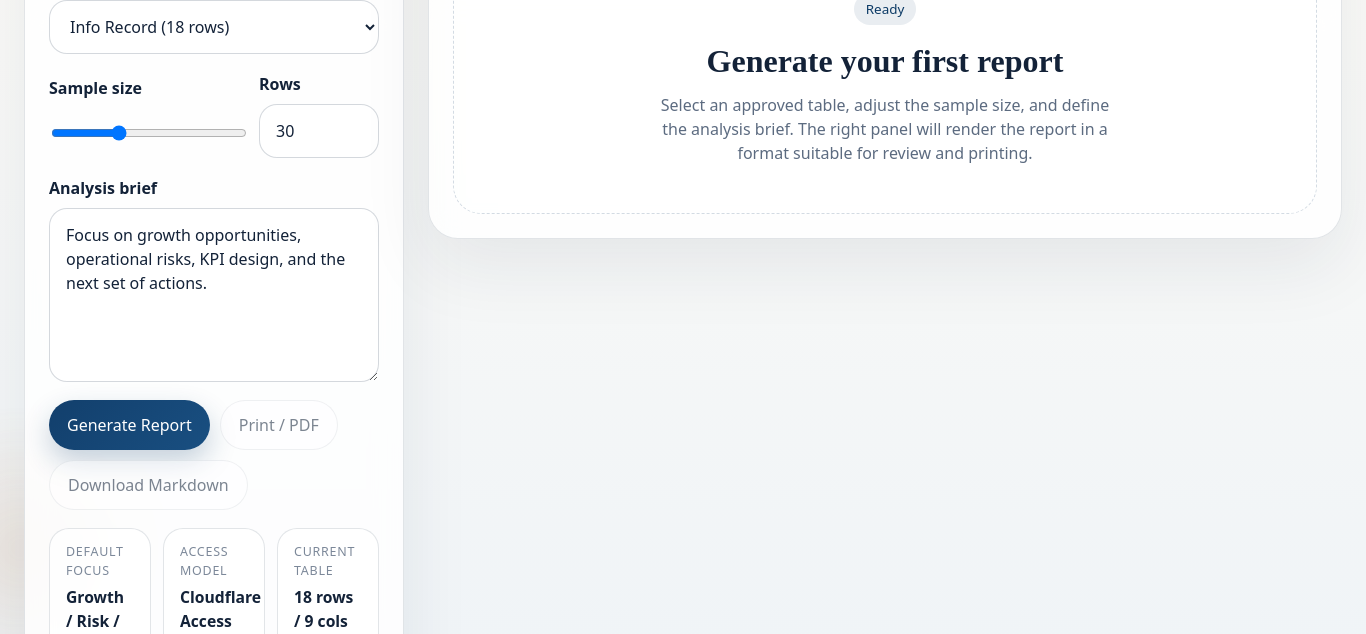
Scenario: App › loads table options and renders the generated report
(page scrolled)
Click the button "Generate Report": x=129, y=425 x1=49 y1=400 x2=210 y2=450
(page scrolled)
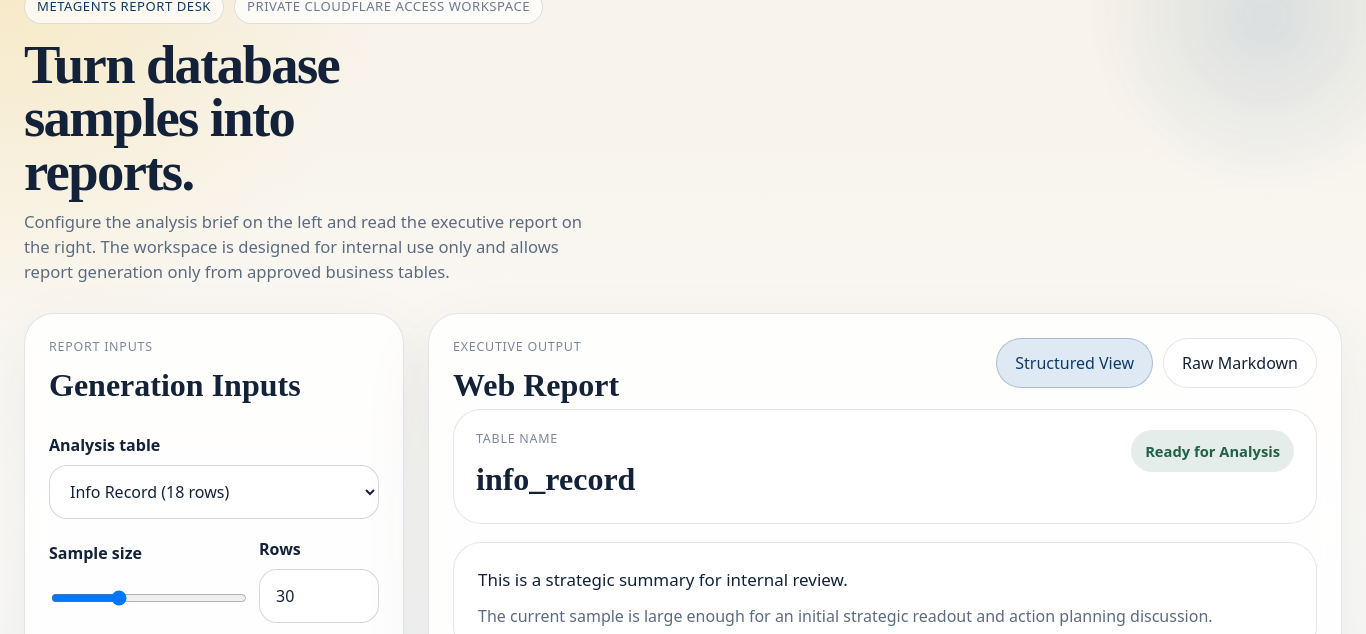
Check: the heading "Web Report" is shown, box x1=453 y1=361 x2=619 y2=409
Check: the text "Ready for Analysis" is shown, box x1=1145 y1=440 x2=1280 y2=462
